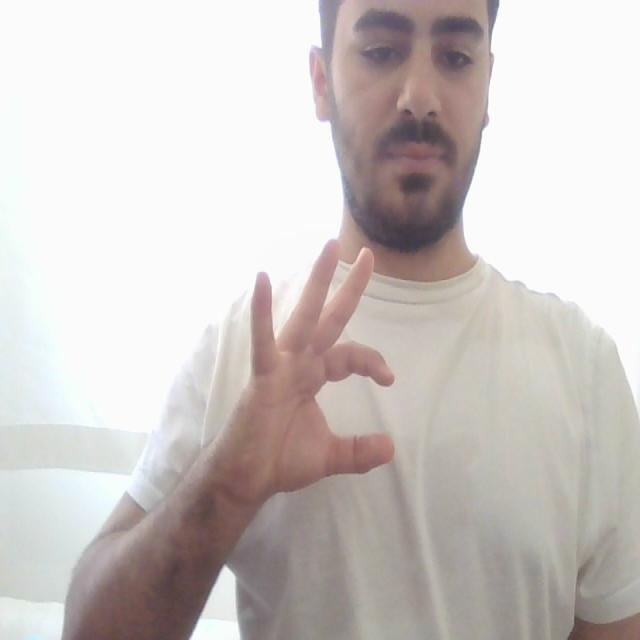Tuvalet: (194, 210, 426, 509)
